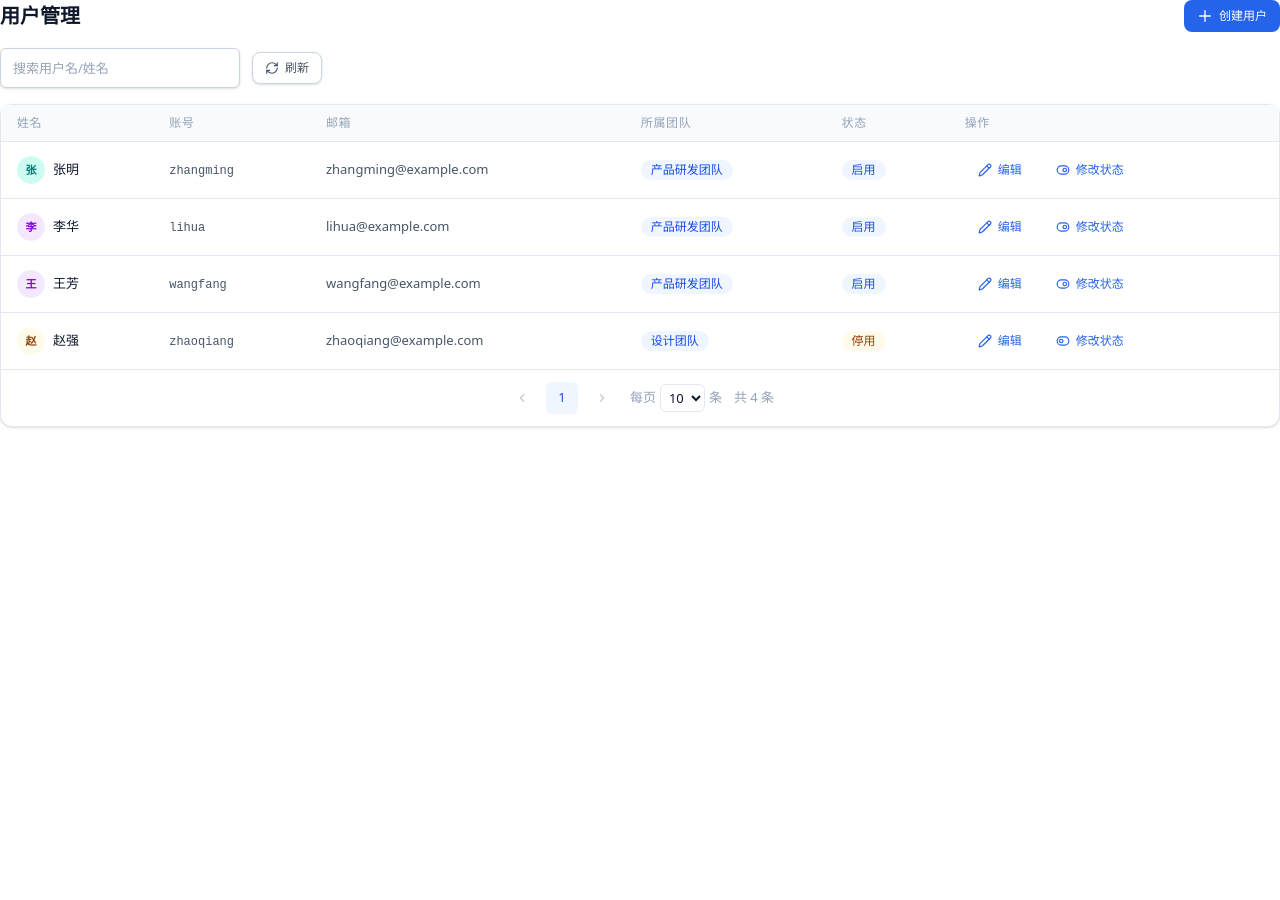
UserManagementPage › opens create dialog when clicking create button
expect the text "张明" is shown: met, box top-left (53, 160), bottom-right (79, 180)
Click the button "创建用户". click: (1232, 16)
box: top-left (1184, 0), bottom-right (1279, 32)
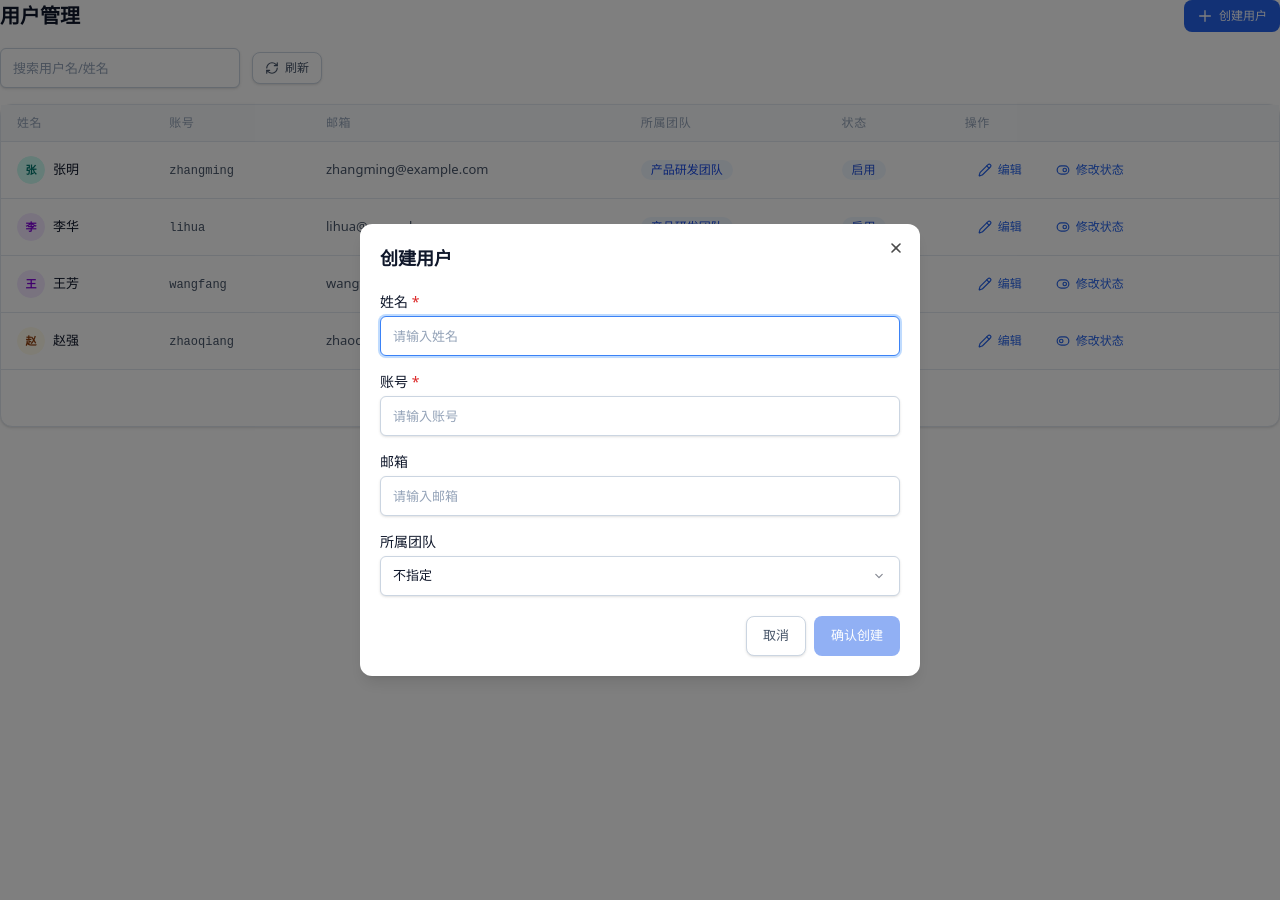
expect the heading "创建用户" is shown: met, box top-left (380, 246), bottom-right (452, 270)
